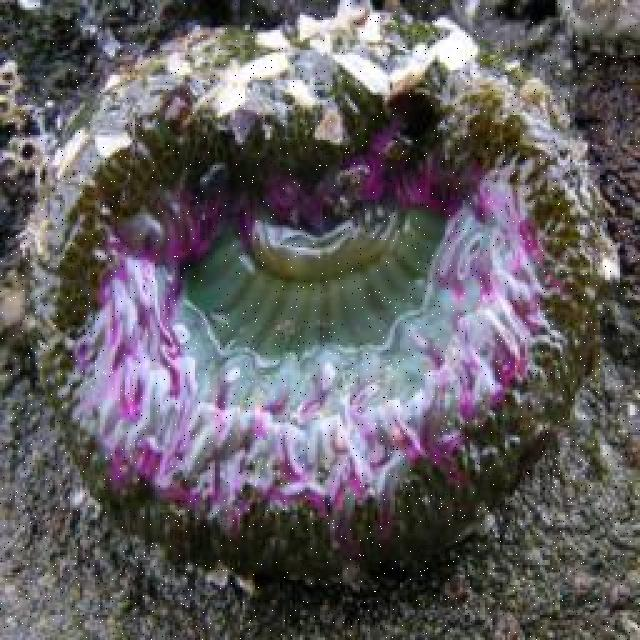reefs: (24, 8, 620, 575)
